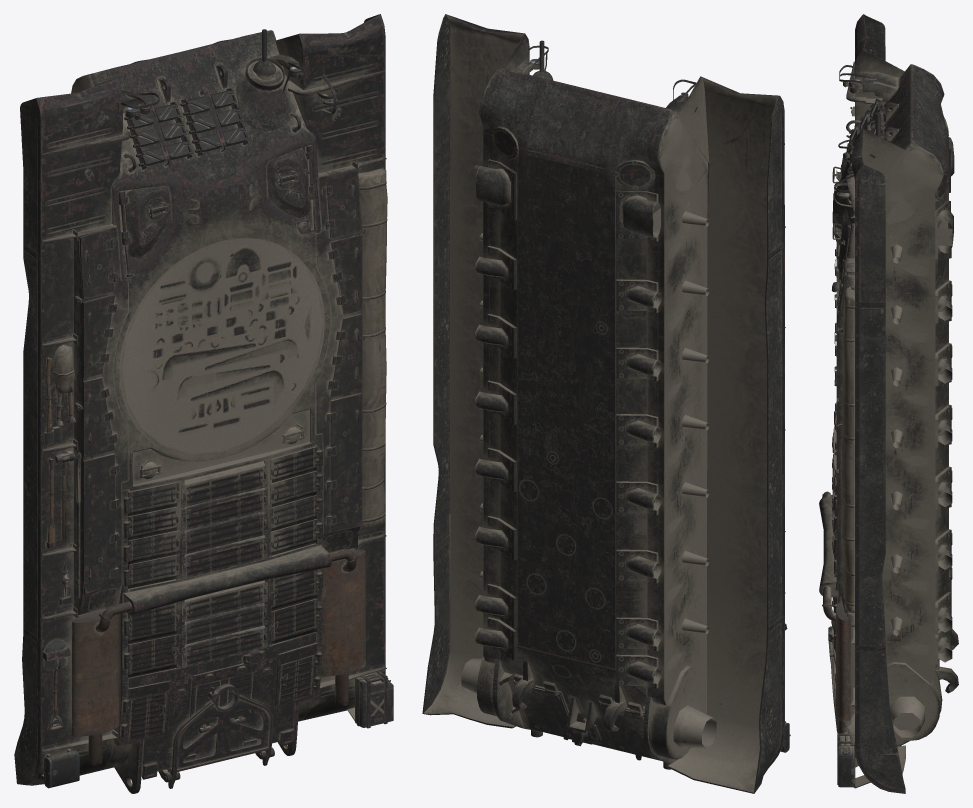
Rendered from Hull.glb.
3 renders of one model, left to right at view 1: azimuth 30°, elevation 25°; view 2: azimuth 150°, elevation 25°; view 3: azimuth 270°, elevation 25°, orthographic. The views are drawn at different scales.
Visible parts, largest first — view 1: set_0_group_0; view 2: set_0_group_0; view 3: set_0_group_0.
Part boxes in pixels (<box>): set_0_group_0: <box>14,14,393,793</box>; set_0_group_0: <box>422,14,790,793</box>; set_0_group_0: <box>819,14,958,793</box>.
Size of the model in its own units: 3.85 by 7.6 by 1.5.
Materials: 1 (1 with a texture image).
